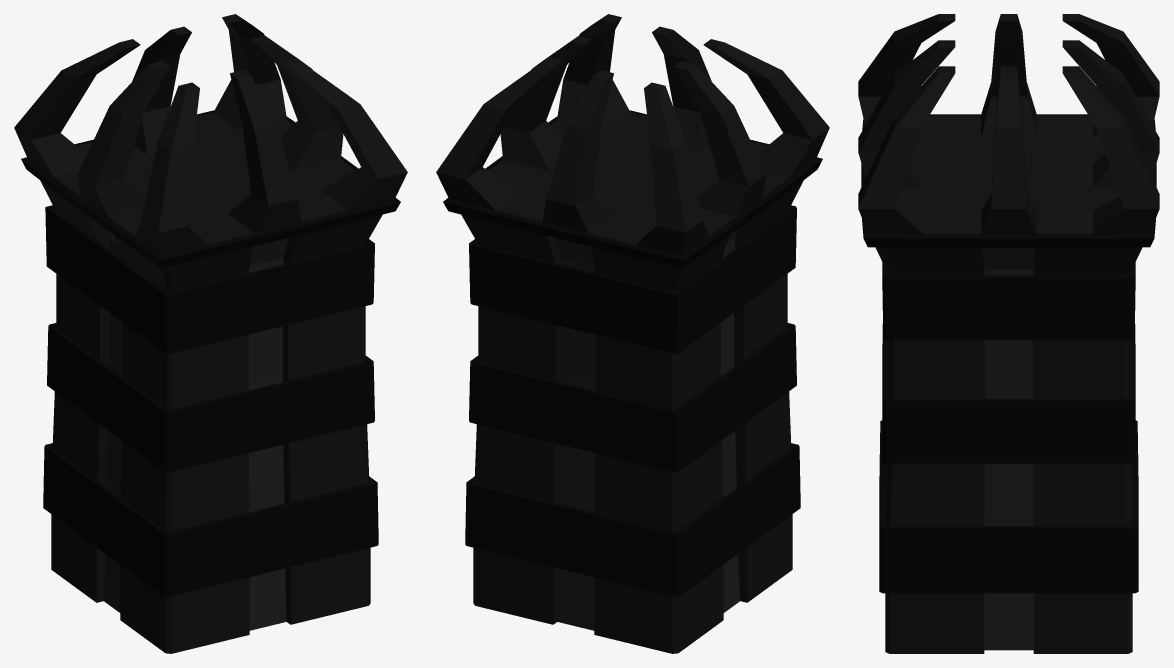
Rendered from Tower_01.fbx.
The picture shows the model from 3 angles, left to right: view 1: azimuth 30°, elevation 25°; view 2: azimuth 150°, elevation 25°; view 3: azimuth 270°, elevation 25°; orthographic projection. The views are drawn at different scales.
Visible parts, largest first — view 1: Tower_01; view 2: Tower_01; view 3: Tower_01.
Boxes of the visible parts, box(x1,y1,x2,y2) form: Tower_01: box(14, 14, 407, 653); Tower_01: box(436, 14, 829, 653); Tower_01: box(858, 14, 1159, 653).
Bounding box in the file's own units: 4502 × 9198 × 4502.
